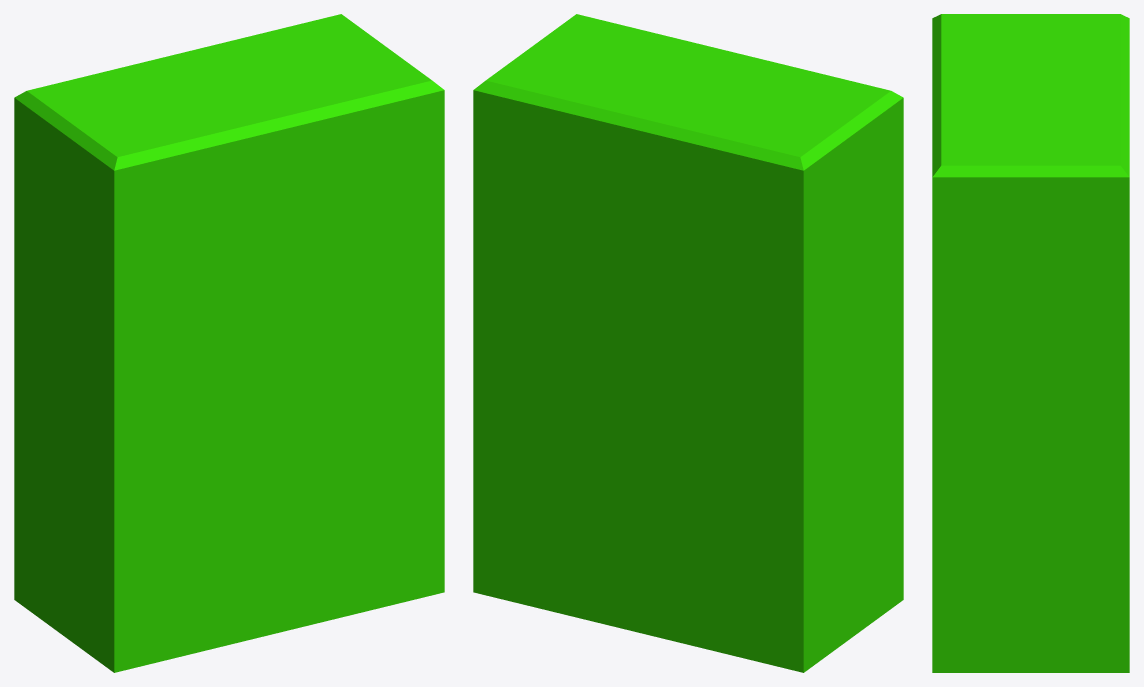
Rendered from basic_2x3.fbx.
3 renders of one model, left to right at view 1: azimuth 30°, elevation 25°; view 2: azimuth 150°, elevation 25°; view 3: azimuth 270°, elevation 25°, orthographic.
Visible parts, largest first — view 1: basic_2x3; view 2: basic_2x3; view 3: basic_2x3.
Boxes of the visible parts, box(x1,y1,x2,y2) form: basic_2x3: box(14, 14, 444, 672); basic_2x3: box(473, 14, 903, 672); basic_2x3: box(932, 14, 1129, 672).
Size of the model in its own units: 210 by 310 by 110.
